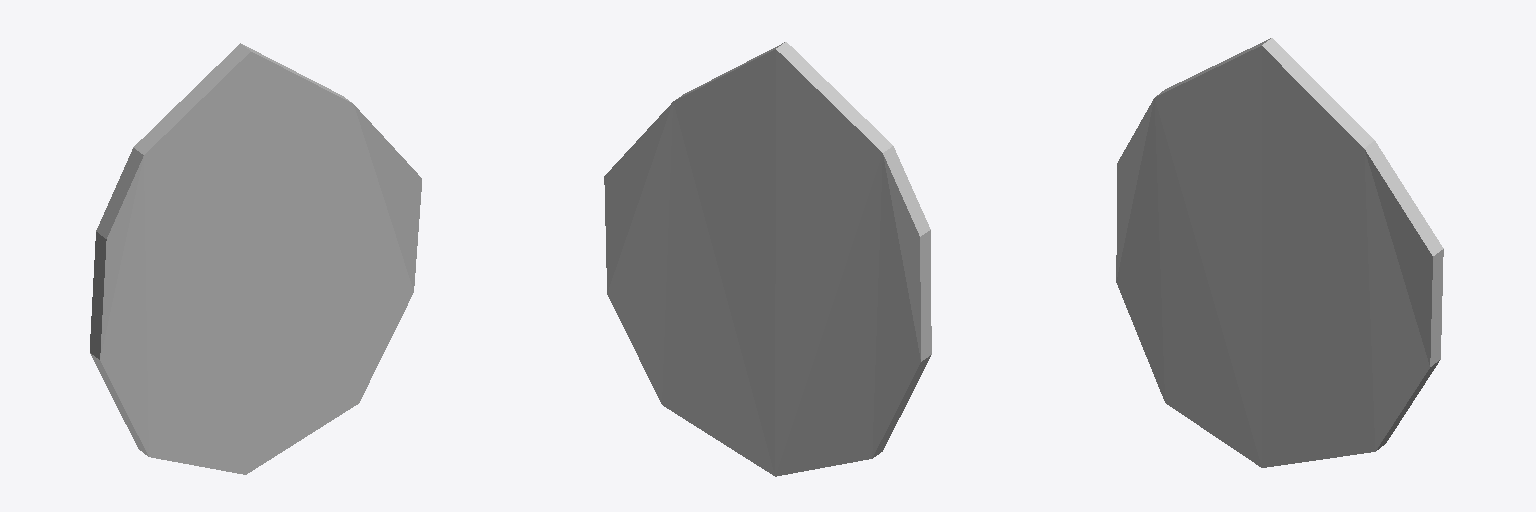
The model's file is Fuego.obj.
The picture shows the model from 3 angles: view 1: azimuth 30°, elevation 25°; view 2: azimuth 150°, elevation 25°; view 3: azimuth 330°, elevation 25°; orthographic projection.
Visible parts, largest first — view 1: Fuego_Plane.001; view 2: Fuego_Plane.001; view 3: Fuego_Plane.001.
Boxes of the visible parts, box(x1,y1,x2,y2) form: Fuego_Plane.001: box(90, 43, 421, 474); Fuego_Plane.001: box(604, 42, 931, 476); Fuego_Plane.001: box(1116, 38, 1443, 467).
Size of the model in its own units: 1.08 by 1.37 by 0.0781.